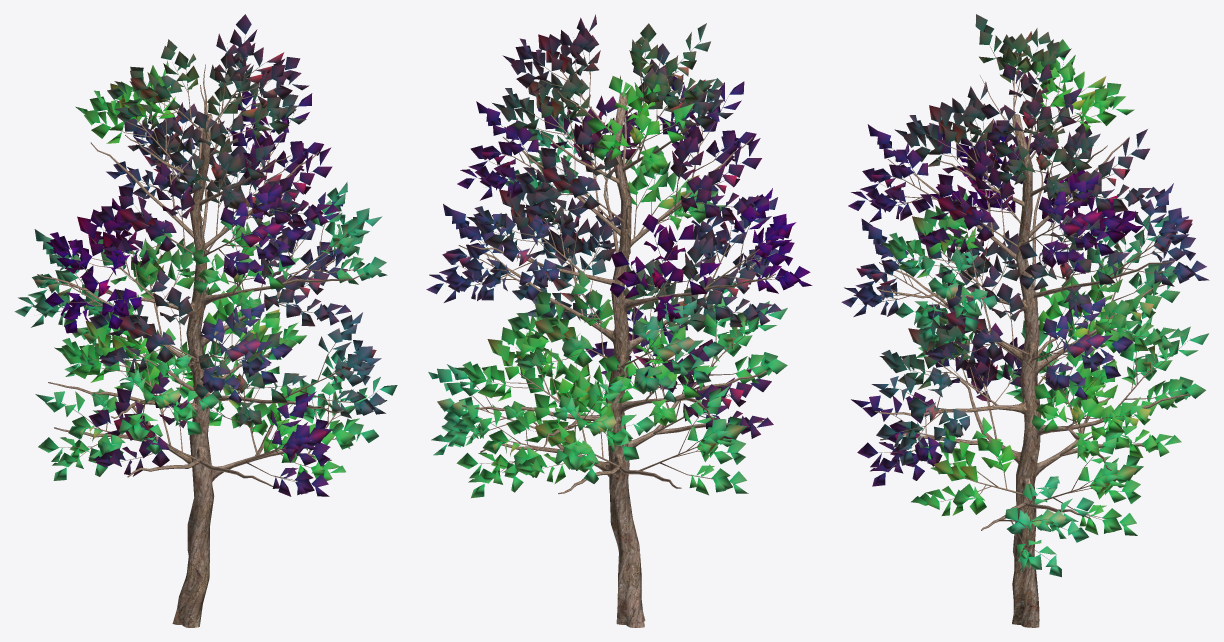
Rendered from DM.Tree.Maple.08.fbx.
3 views of the same model, side by side, from view 1: azimuth 30°, elevation 25°; view 2: azimuth 150°, elevation 25°; view 3: azimuth 270°, elevation 25° (orthographic). The views are drawn at different scales.
Visible parts, largest first — view 1: Tree_1, Tree_0; view 2: Tree_1, Tree_0; view 3: Tree_1, Tree_0.
Boxes of the visible parts, left/top/right/bottom form: Tree_1: left=14, top=14, right=397, bottom=496; Tree_0: left=37, top=37, right=379, bottom=627; Tree_1: left=426, top=14, right=812, bottom=497; Tree_0: left=443, top=37, right=784, bottom=627; Tree_1: left=841, top=14, right=1209, bottom=577; Tree_0: left=862, top=44, right=1190, bottom=627.
Bounding box in the file's own units: 335 × 518 × 296.
Materials: 1 (1 with a texture image).
